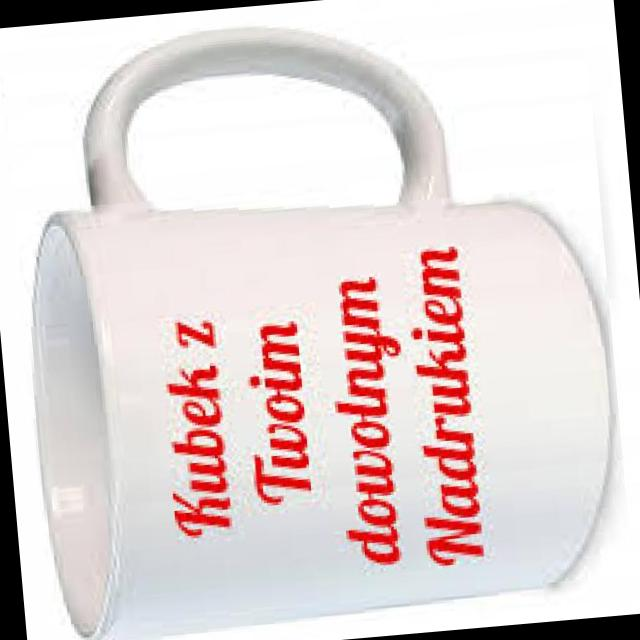Coffee Mug: (3, 0, 631, 640)
